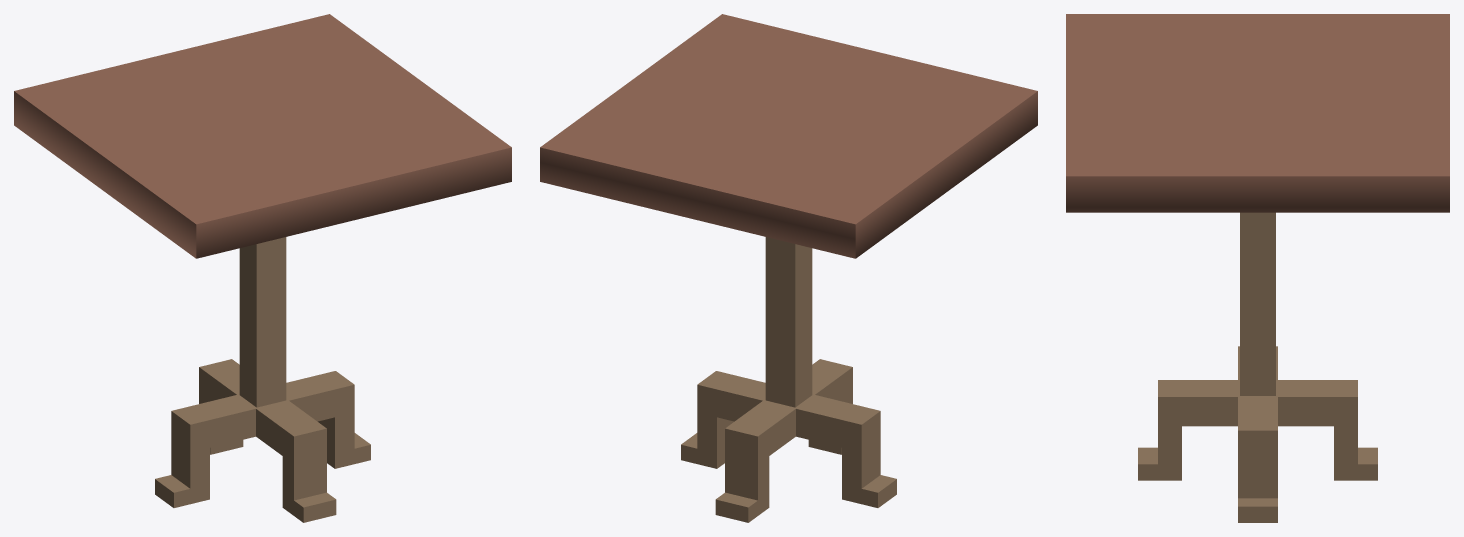
Rendered from TeaTable.fbx.
3 views of the same model, side by side, from view 1: azimuth 30°, elevation 25°; view 2: azimuth 150°, elevation 25°; view 3: azimuth 270°, elevation 25° (orthographic). The views are drawn at different scales.
Parts seen in each view (by area): view 1: geo_TeaTable; view 2: geo_TeaTable; view 3: geo_TeaTable.
Boxes of the visible parts, x1,y1,x2,y2 form: geo_TeaTable: (14,14,511,522); geo_TeaTable: (540,14,1037,522); geo_TeaTable: (1066,14,1449,522).
Size of the model in its own units: 0.96 by 1.04 by 0.96.
